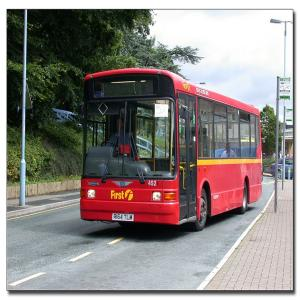Vehicle-registration-plate: (113, 214, 135, 223)
